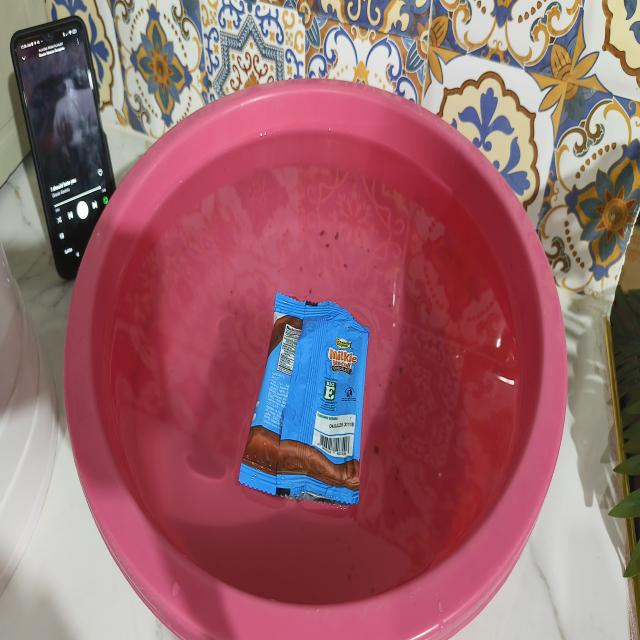Plastic Wrapper: (239, 293, 369, 506)
